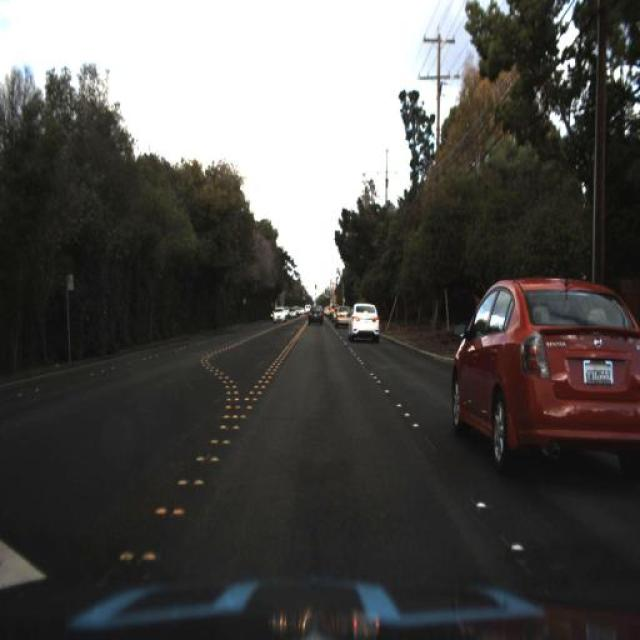car: (450, 270, 636, 470), (346, 301, 384, 347), (329, 302, 353, 332), (304, 302, 324, 331), (271, 302, 290, 326)
